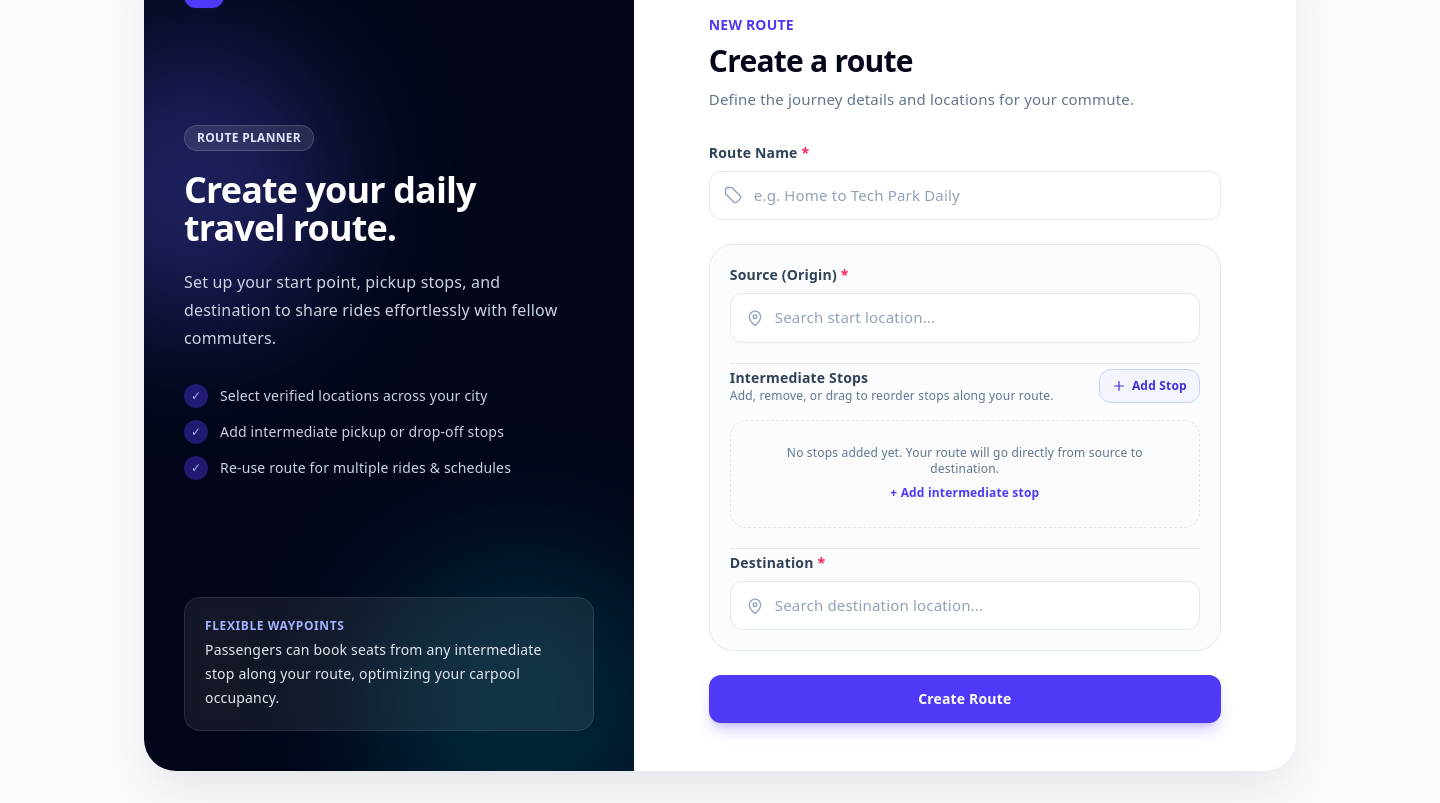
Test: CreateRoutePage › displays validation errors when submitting an empty form
(page scrolled)
Click the button "Create Route": (965, 699) [709, 675, 1221, 723]
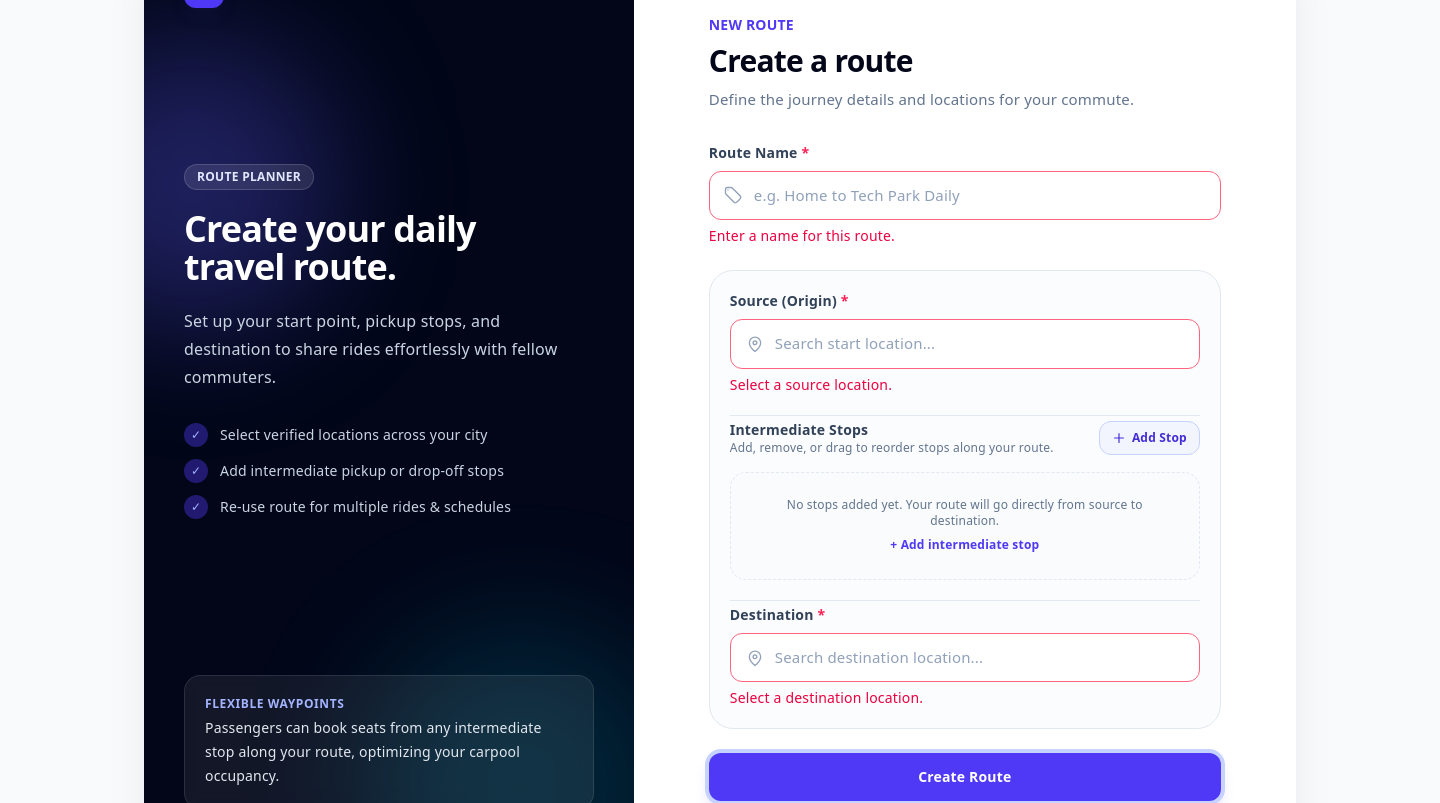
Now the text "Enter a name for this route." is shown, box [709, 226, 895, 245]
Now the text "Select a source location." is shown, box [730, 375, 892, 394]
Now the text "Select a destination location." is shown, box [730, 688, 923, 707]
